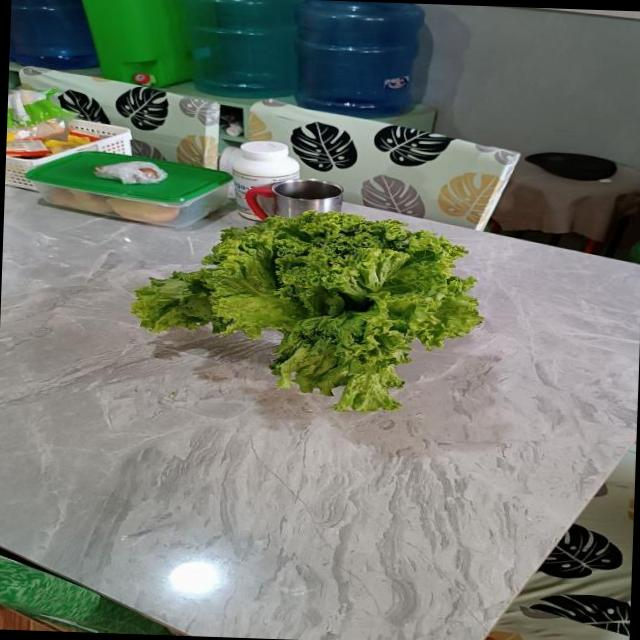Lettuce-Ready-to-Harvest: (132, 212, 481, 410)
